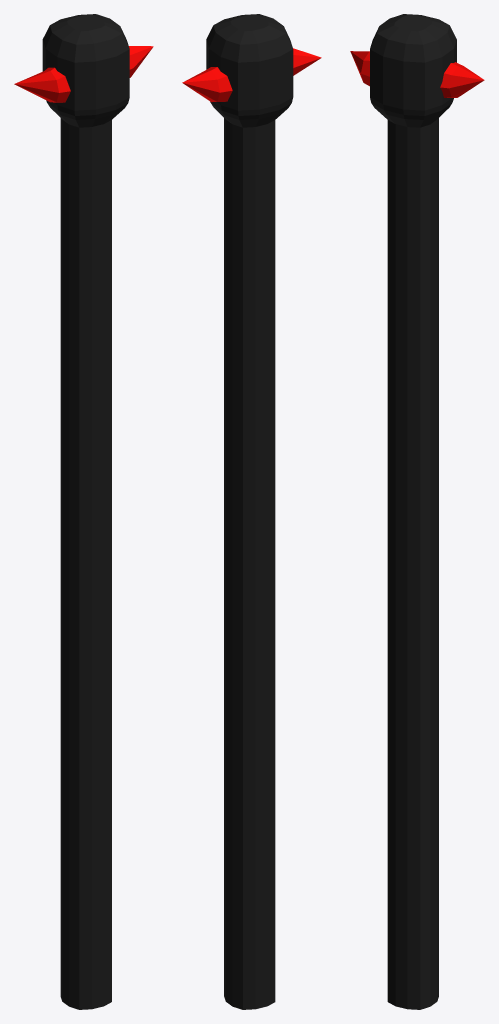
Rendered from Sorcerer's Staff.fbx.
The picture shows the model from 3 angles, left to right: view 1: azimuth 30°, elevation 25°; view 2: azimuth 210°, elevation 25°; view 3: azimuth 330°, elevation 25°; orthographic projection.
Parts seen in each view (by area): view 1: Sorcerer's Staff; view 2: Sorcerer's Staff; view 3: Sorcerer's Staff.
Boxes of the visible parts, <box> form: Sorcerer's Staff: <box>14,14,153,1009</box>; Sorcerer's Staff: <box>182,14,321,1009</box>; Sorcerer's Staff: <box>350,14,484,1009</box>.
Size of the model in its own units: 667 by 4535 by 339.
